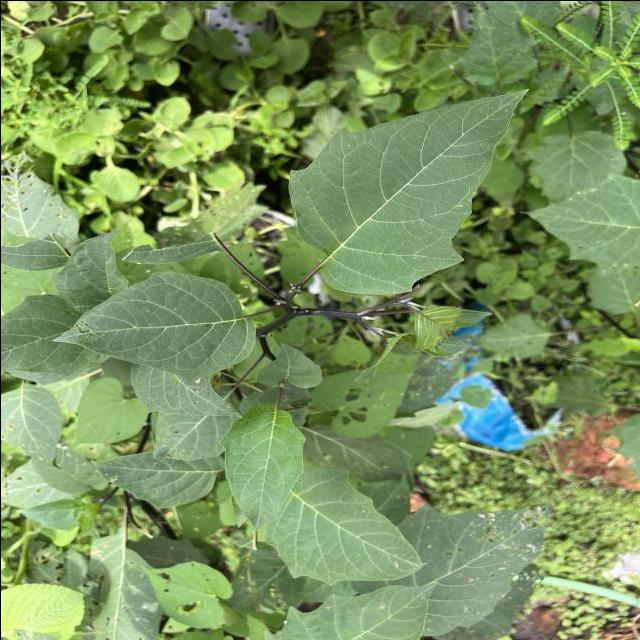Datura metal linn: (286, 86, 532, 295), (50, 268, 258, 382), (215, 399, 308, 536)
